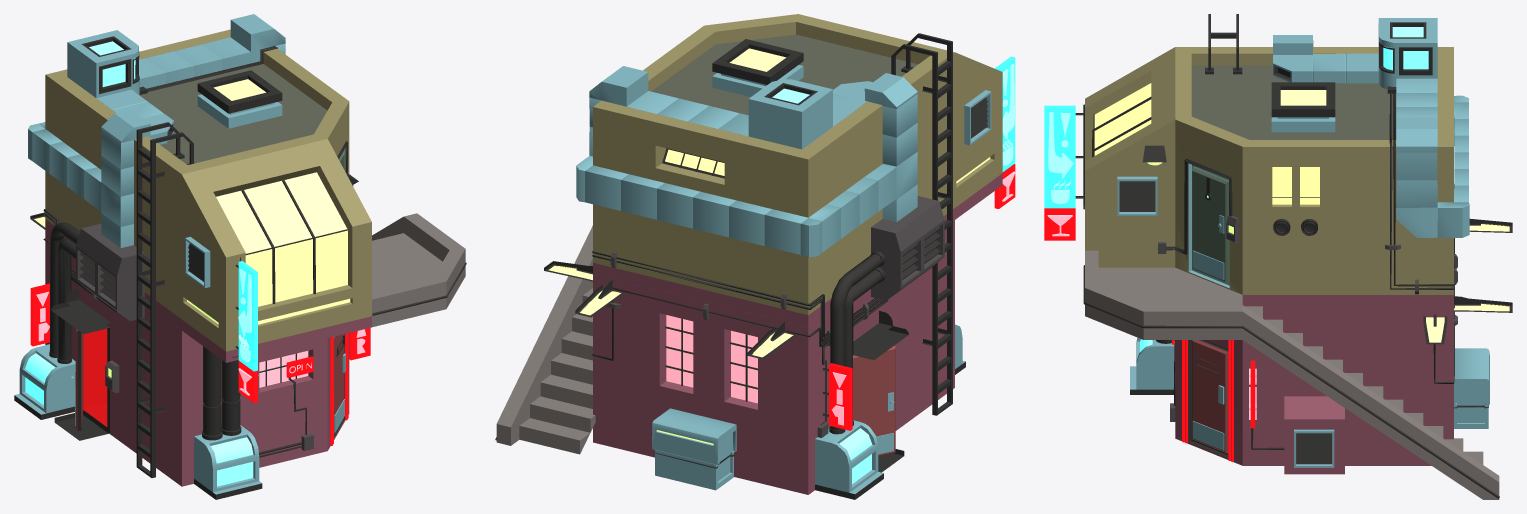
File: futuristic_low_poly_building.glb
The picture shows the model from 3 angles, left to right: view 1: azimuth 30°, elevation 25°; view 2: azimuth 150°, elevation 25°; view 3: azimuth 270°, elevation 25°; orthographic projection. The views are drawn at different scales.
Parts seen in each view (by area): view 1: Object_4, Object_10, Object_11, Object_5, Object_8, Object_7, Object_6, Object_29, Object_56, Object_23, Object_42, Object_41 (+3 smaller); view 2: Object_4, Object_5, Object_10, Object_11, Object_7, Object_6, Object_29, Object_41, Object_39, Object_8, Object_56, Object_23 (+2 smaller); view 3: Object_4, Object_5, Object_10, Object_7, Object_11, Object_6, Object_8, Object_9, Object_39, Object_56, Object_126, Object_119 (+2 smaller).
Boxes of the visible parts, x1=… form: Object_4: x1=45, y1=29, x2=371, y2=351; Object_10: x1=14, y1=14, x2=345, y2=494; Object_11: x1=14, y1=36, x2=466, y2=499; Object_5: x1=45, y1=220, x2=371, y2=486; Object_8: x1=34, y1=79, x2=350, y2=377; Object_7: x1=372, y1=213, x2=465, y2=327; Object_6: x1=139, y1=62, x2=327, y2=163; Object_29: x1=76, y1=185, x2=353, y2=450; Object_56: x1=30, y1=283, x2=370, y2=445; Object_23: x1=25, y1=41, x2=253, y2=486; Object_42: x1=83, y1=328, x2=107, y2=426; Object_41: x1=36, y1=291, x2=366, y2=395; Object_4: x1=593, y1=14, x2=1002, y2=315; Object_5: x1=593, y1=173, x2=1002, y2=494; Object_10: x1=576, y1=65, x2=991, y2=493; Object_11: x1=495, y1=33, x2=987, y2=499; Object_7: x1=496, y1=225, x2=595, y2=454; Object_6: x1=651, y1=34, x2=917, y2=115; Object_29: x1=607, y1=196, x2=944, y2=437; Object_41: x1=666, y1=171, x2=1015, y2=425; Object_39: x1=853, y1=345, x2=895, y2=456; Object_8: x1=548, y1=48, x2=990, y2=444; Object_56: x1=829, y1=164, x2=1015, y2=430; Object_23: x1=772, y1=88, x2=872, y2=483; Object_4: x1=1085, y1=47, x2=1453, y2=294; Object_5: x1=1175, y1=295, x2=1453, y2=474; Object_10: x1=1117, y1=18, x2=1489, y2=467; Object_7: x1=1085, y1=250, x2=1499, y2=499; Object_11: x1=1075, y1=14, x2=1512, y2=498; Object_6: x1=1191, y1=65, x2=1396, y2=139; Object_8: x1=1094, y1=83, x2=1509, y2=342; Object_9: x1=1192, y1=166, x2=1229, y2=283; Object_39: x1=1192, y1=340, x2=1228, y2=453; Object_56: x1=1044, y1=208, x2=1255, y2=461; Object_126: x1=1044, y1=105, x2=1075, y2=208; Object_119: x1=1048, y1=112, x2=1073, y2=203.
Size of the model in its own units: 6.15 by 6.7 by 7.96.
